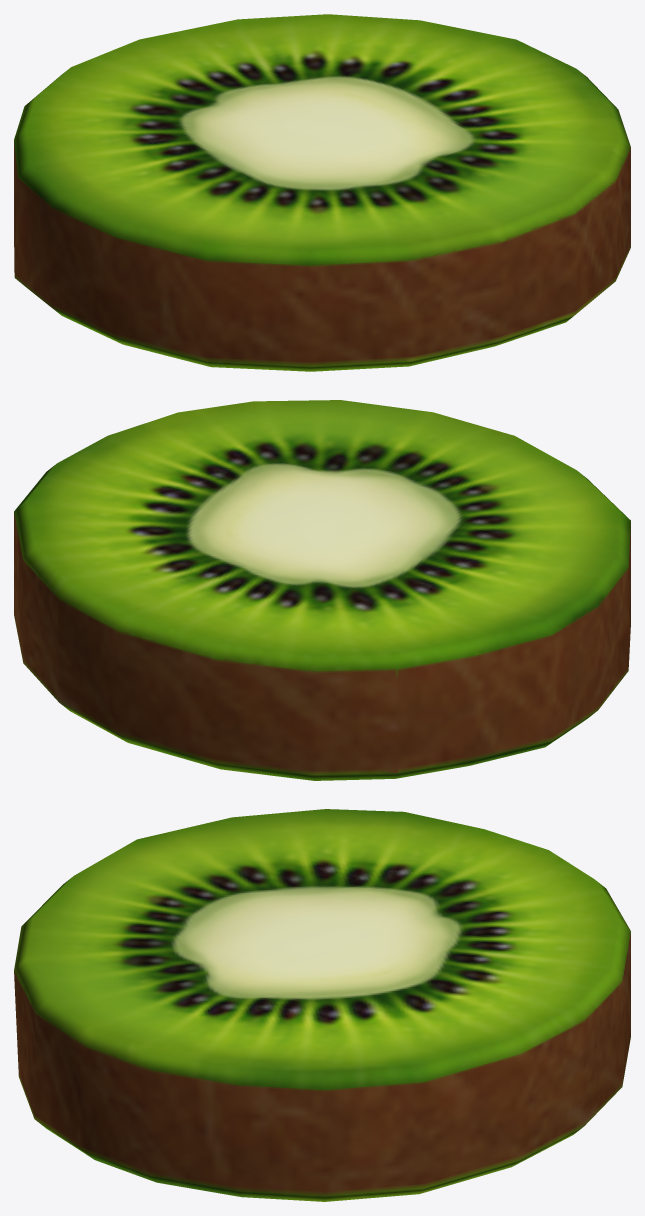
The model's file is kiwi_slice.fbx.
3 renders of one model, top to bottom at view 1: azimuth 30°, elevation 25°; view 2: azimuth 150°, elevation 25°; view 3: azimuth 270°, elevation 25°, orthographic. The views are drawn at different scales.
Visible parts, largest first — view 1: kiwi_slice; view 2: kiwi_slice; view 3: kiwi_slice.
Boxes of the visible parts, box(x1,y1,x2,y2) form: kiwi_slice: box(14, 14, 630, 371); kiwi_slice: box(14, 400, 630, 780); kiwi_slice: box(14, 809, 630, 1201).
Size of the model in its own units: 25.68 by 5.6 by 24.33.
